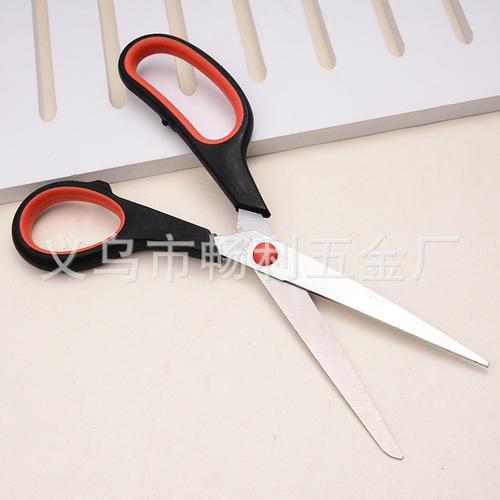scissor: (8, 34, 489, 460)
